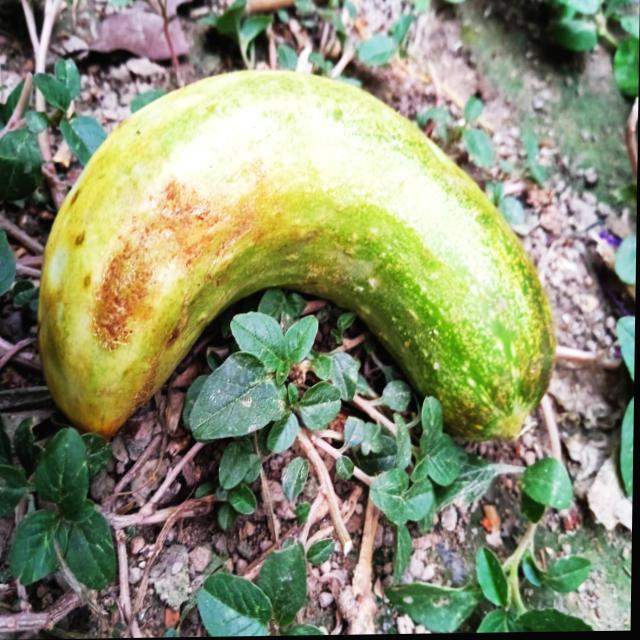Belly-Rot: (86, 150, 270, 412)
